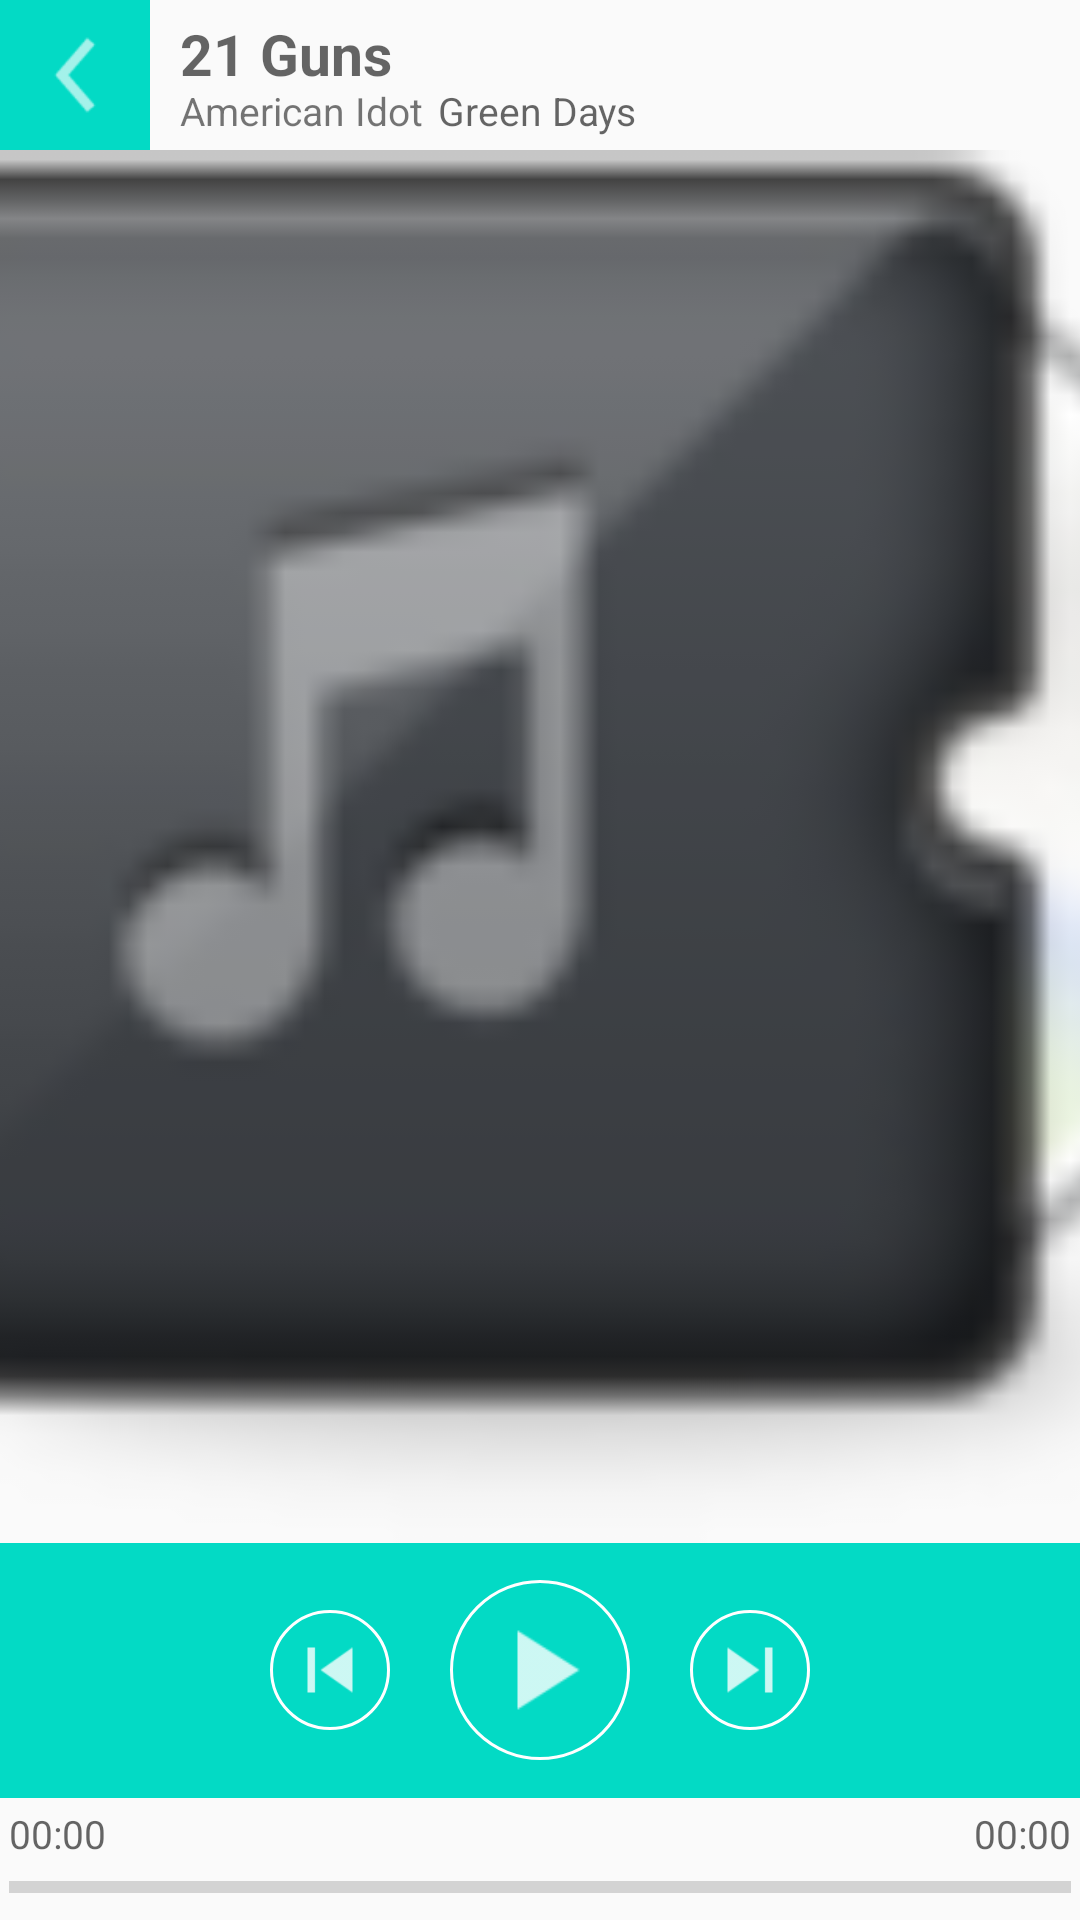

Named icons in this screenshot (1080*1920) and their centers, (x=x, y=y):
music next: (x=750, y=1670)
music previous: (x=330, y=1670)
play back: (x=75, y=75)
song play: (x=540, y=1670)
